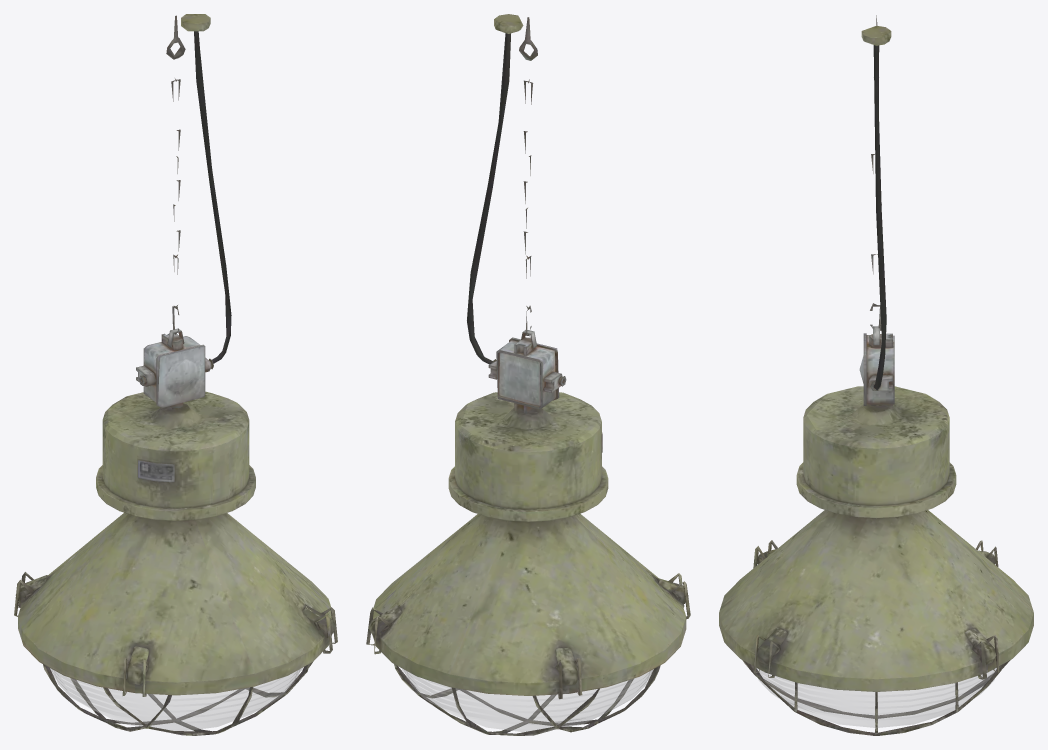
Rendered from hanging_industrial_lamp.glb.
The picture shows the model from 3 angles, left to right: view 1: azimuth 30°, elevation 25°; view 2: azimuth 150°, elevation 25°; view 3: azimuth 270°, elevation 25°; orthographic projection.
Visible parts, largest first — view 1: hanging_industrial_lamp; view 2: hanging_industrial_lamp; view 3: hanging_industrial_lamp.
Boxes of the visible parts, x1,y1,x2,y2 form: hanging_industrial_lamp: [14, 14, 337, 735]; hanging_industrial_lamp: [366, 14, 690, 735]; hanging_industrial_lamp: [719, 15, 1033, 735].
Size of the model in its own units: 0.5497 by 1.36 by 0.5497.
Materials: 2 (1 with a texture image).
